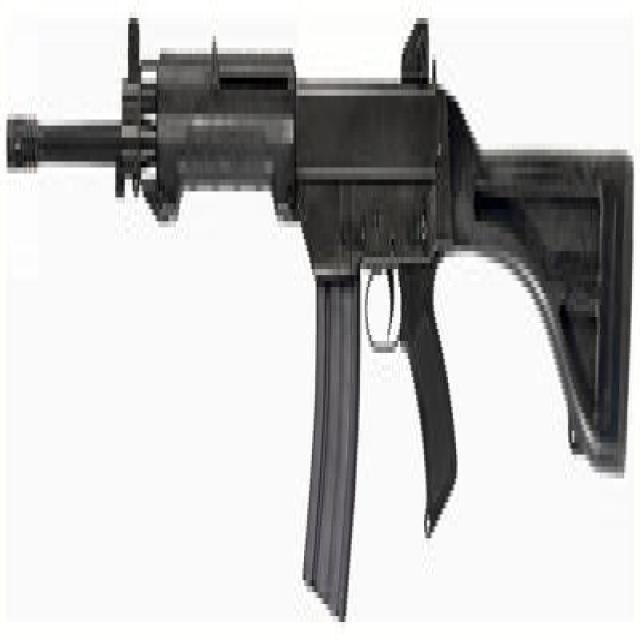rifle: (1, 1, 640, 634)
